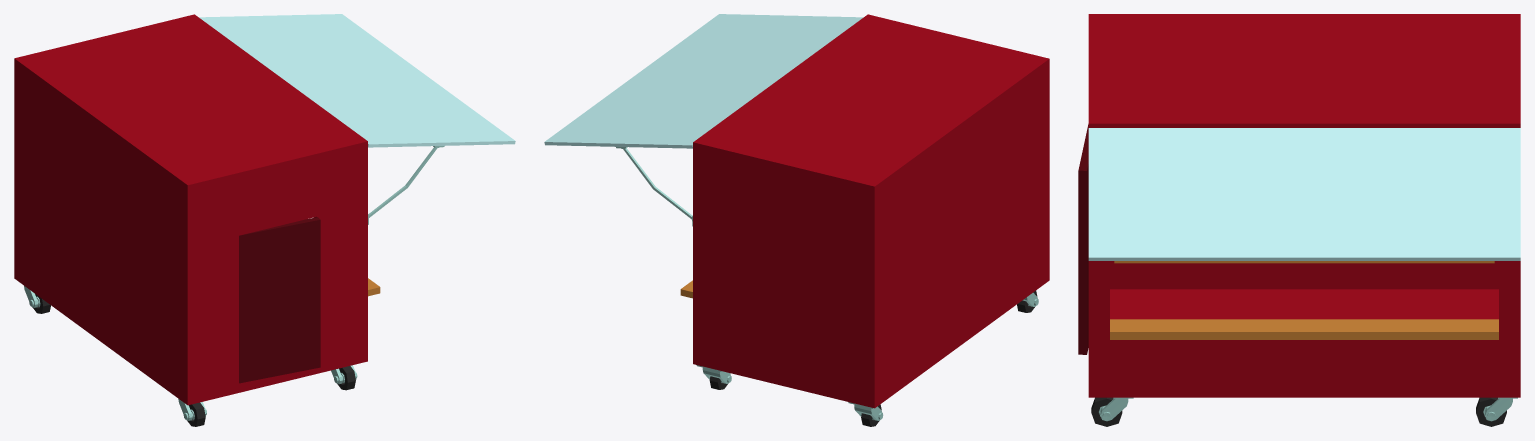
File: PuestoDeFeria_07.fbx
3 views of the same model, side by side, from view 1: azimuth 30°, elevation 25°; view 2: azimuth 150°, elevation 25°; view 3: azimuth 270°, elevation 25° (orthographic). The views are drawn at different scales.
Visible parts, largest first — view 1: Base.001, Toldo_tela.001, Puerta, Rueda_2.001|Cube.004|Dupli|, Rueda_1.001|Cube.004|Dupli|; view 2: Base.001, Toldo_tela.001, Rueda_3.001|Cube.004|Dupli|; view 3: Base.001, Toldo_tela.001, Blada.001, Puerta, Cube, Rueda_1.001|Cube.004|Dupli|, Rueda_4.001|Cube.004|Dupli|.
Part boxes in pixels (bbox=[...]): Base.001: bbox=[14, 14, 367, 405]; Toldo_tela.001: bbox=[199, 14, 515, 147]; Puerta: bbox=[239, 217, 320, 383]; Rueda_2.001|Cube.004|Dupli|: bbox=[178, 399, 206, 426]; Rueda_1.001|Cube.004|Dupli|: bbox=[331, 365, 357, 390]; Base.001: bbox=[693, 14, 1049, 408]; Toldo_tela.001: bbox=[544, 14, 863, 148]; Rueda_3.001|Cube.004|Dupli|: bbox=[848, 402, 883, 426]; Base.001: bbox=[1088, 14, 1520, 397]; Toldo_tela.001: bbox=[1088, 128, 1520, 260]; Blada.001: bbox=[1110, 319, 1498, 339]; Puerta: bbox=[1078, 124, 1088, 354]; Cube: bbox=[1114, 261, 1494, 263]; Rueda_1.001|Cube.004|Dupli|: bbox=[1091, 397, 1133, 426]; Rueda_4.001|Cube.004|Dupli|: bbox=[1476, 397, 1517, 426].
Bounding box in the file's own units: 1091 × 792 × 1023.
